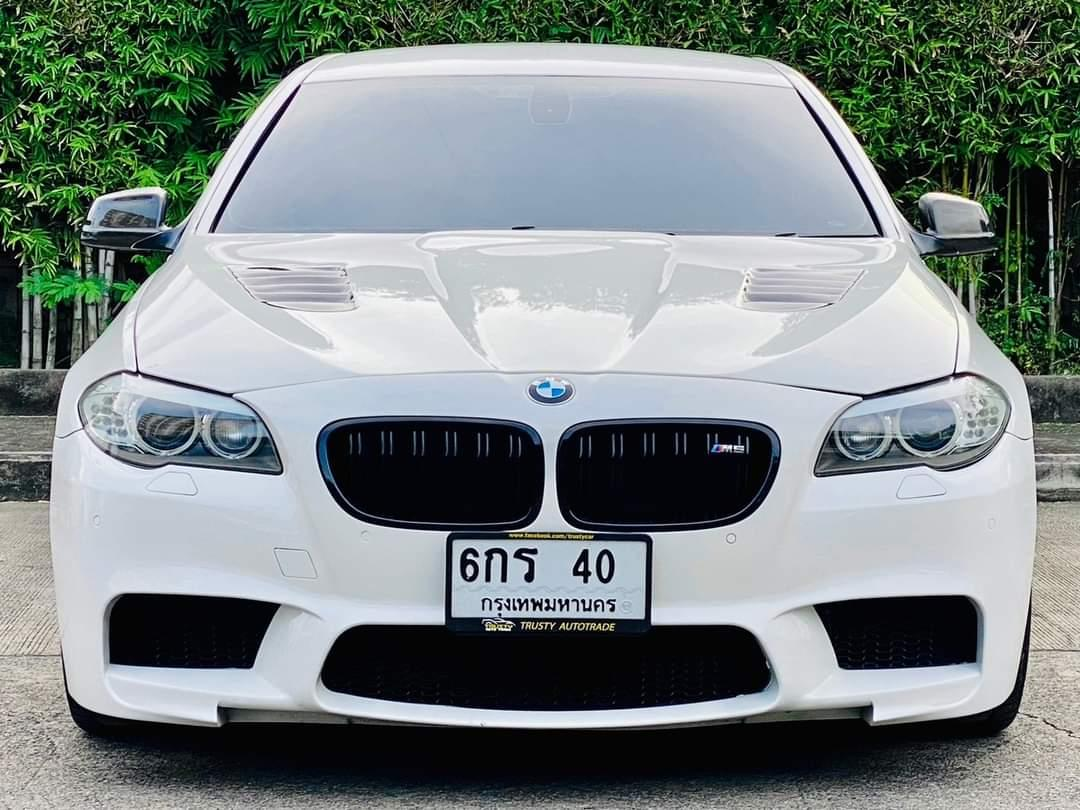license-plate: (444, 531, 654, 639)
